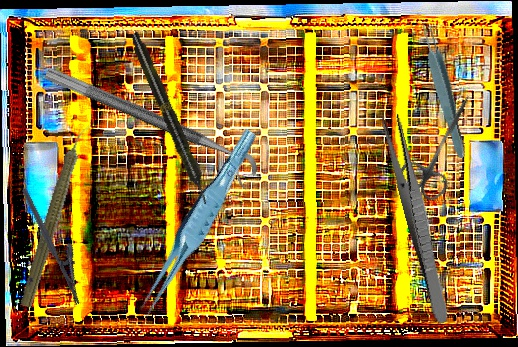Dressing Forceps: (378, 110, 456, 326)
Fixation Ring: (36, 65, 262, 191)
Handpiece: (126, 30, 214, 207), (16, 120, 95, 311)
Iris Scissors: (394, 83, 489, 206)
Needle Holder: (20, 180, 97, 306)
Tissue Forceps: (122, 127, 271, 320), (417, 20, 471, 160)
